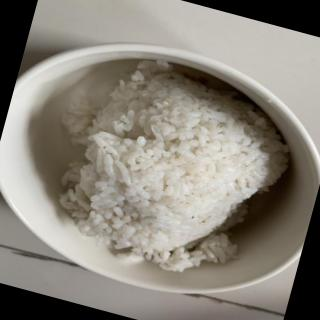Nasi: (47, 40, 309, 296)
